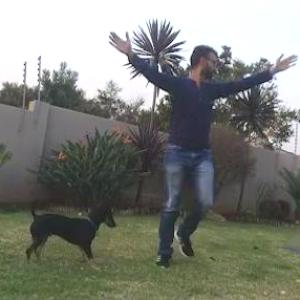takeoff: (106, 30, 294, 270)
